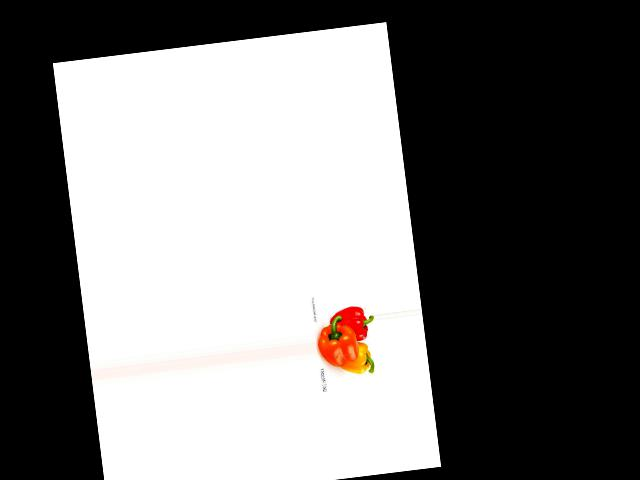bell_pepper: (336, 339, 377, 378)
